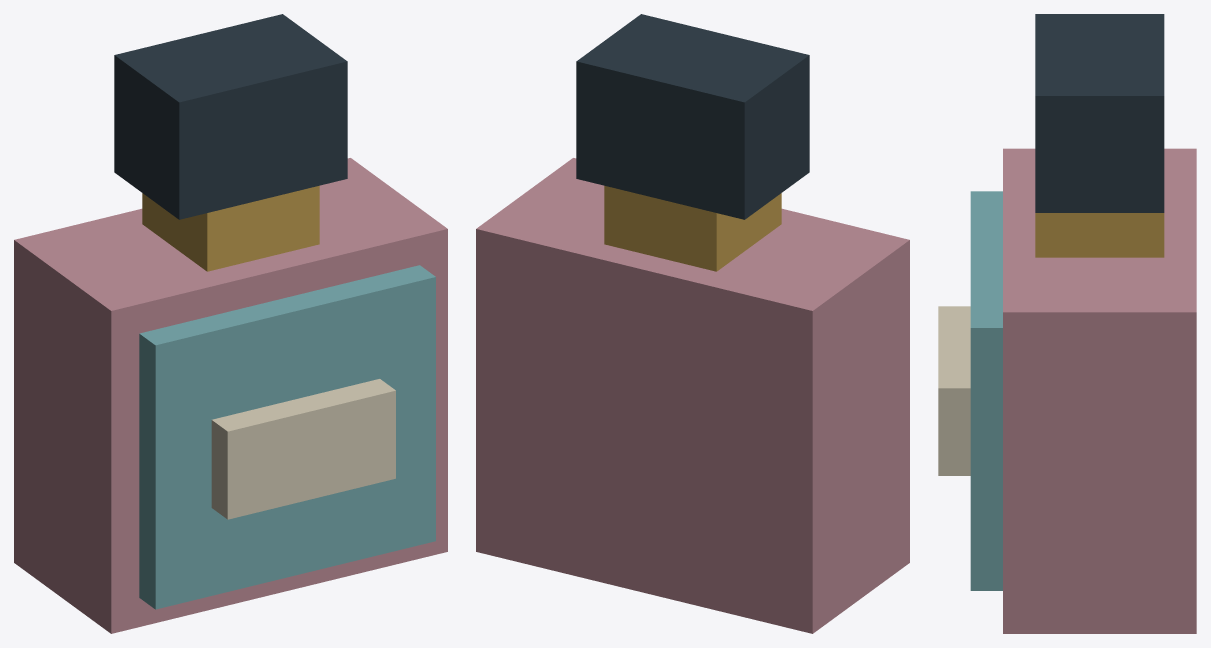
File: beauty-02.glb
The picture shows the model from 3 angles, left to right: view 1: azimuth 30°, elevation 25°; view 2: azimuth 150°, elevation 25°; view 3: azimuth 270°, elevation 25°; orthographic projection.
Visible parts, largest first — view 1: Perfume bottle; view 2: Perfume bottle; view 3: Perfume bottle.
Part boxes in pixels (x1,y1,x2,y2): Perfume bottle: [14, 14, 447, 633]; Perfume bottle: [476, 14, 909, 633]; Perfume bottle: [938, 14, 1196, 633].
Bounding box in the file's own units: 0.96 × 1.36 × 0.64.
